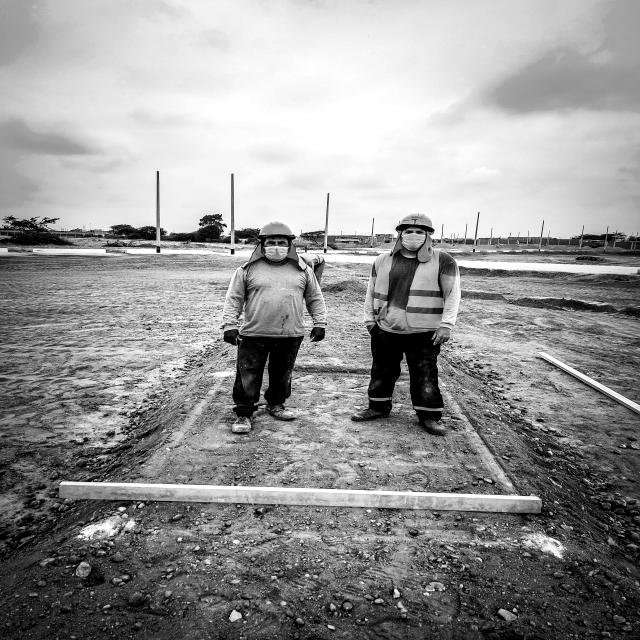No-Vest: (240, 260, 314, 343)
Vest: (371, 252, 458, 338)
